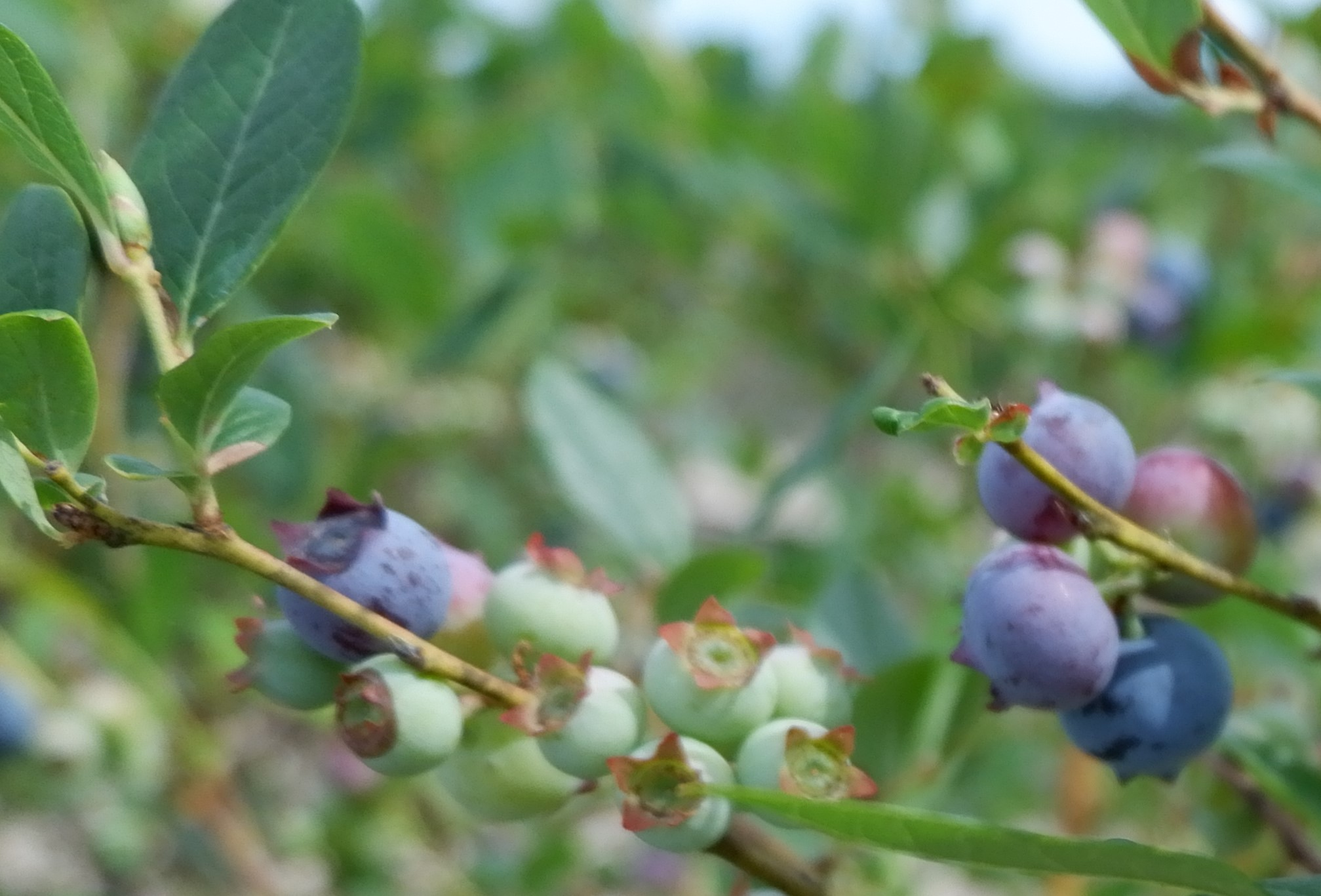Immature: (1127, 450, 1255, 603), (503, 655, 652, 782), (646, 608, 774, 748), (436, 706, 583, 824), (486, 539, 616, 661), (334, 664, 459, 777), (612, 735, 734, 850), (766, 621, 873, 729), (231, 605, 342, 707), (736, 723, 873, 802), (429, 536, 502, 670)
Mature: (278, 495, 446, 662), (1062, 617, 1231, 778), (964, 546, 1114, 709), (981, 386, 1133, 543)
